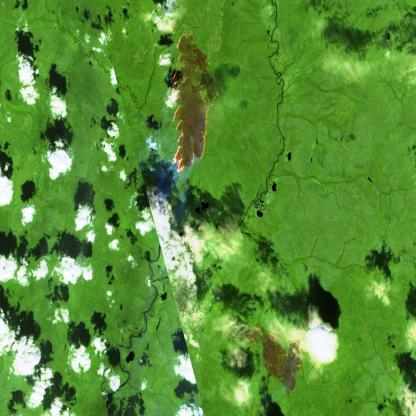fire: (164, 26, 224, 195), (240, 315, 306, 390)
